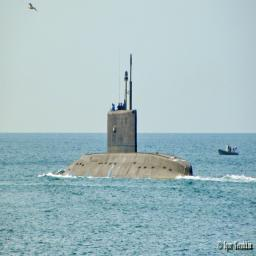submarine: (63, 56, 195, 180)
